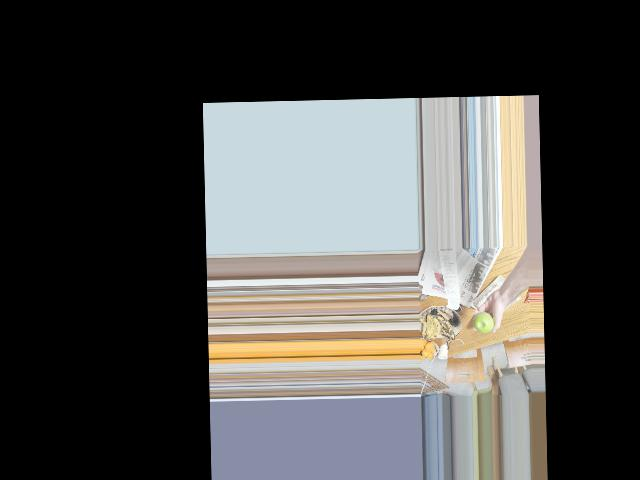apple: (472, 306, 492, 335)
